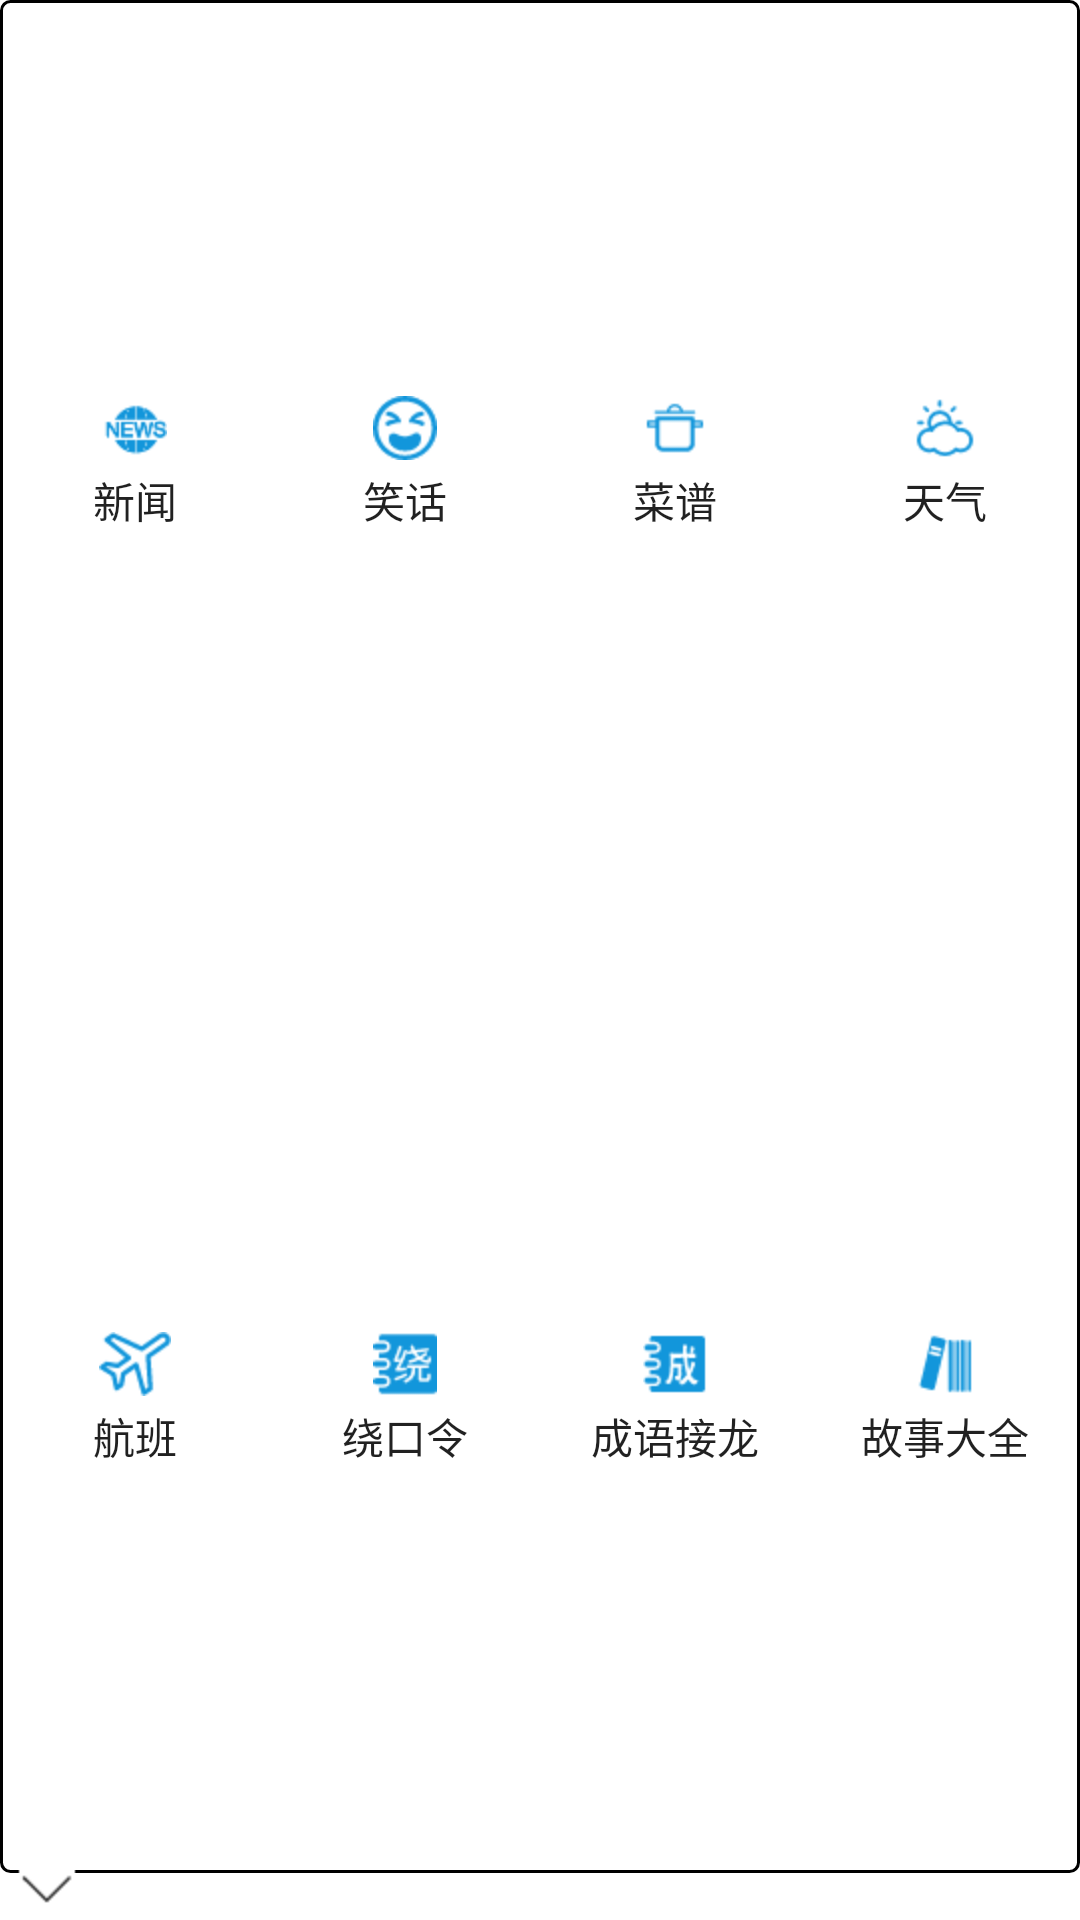

Point at icon controls on the screen. Image size 1080px x 1920px, points as (x,y).
xiangxia: (47,1889)
